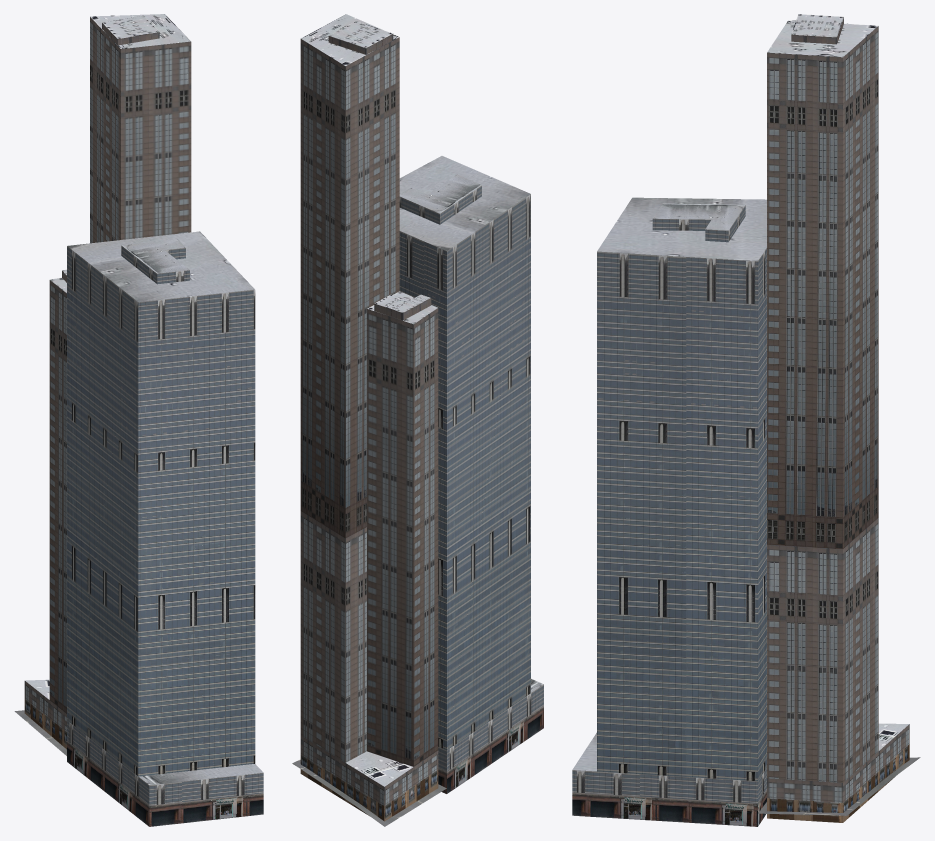
Rendered from EmbeddedTextures.fbx.
The picture shows the model from 3 angles, left to right: view 1: azimuth 30°, elevation 25°; view 2: azimuth 150°, elevation 25°; view 3: azimuth 270°, elevation 25°; orthographic projection. The views are drawn at different scales.
Parts seen in each view (by area): view 1: CityEngineMaterial_4_m, CityEngineMaterial_6_m, CityEngineMaterial_1_m, CityEngineMaterial_3_m, CityEngineMaterial_2_m, CityEngineMaterial_5_m; view 2: CityEngineMaterial_6_m, CityEngineMaterial_4_m, CityEngineMaterial_1_m, CityEngineMaterial_2_m, CityEngineMaterial_3_m, CityEngineMaterial_5_m, CityEngineMaterial_m; view 3: CityEngineMaterial_4_m, CityEngineMaterial_6_m, CityEngineMaterial_1_m, CityEngineMaterial_3_m, CityEngineMaterial_2_m, CityEngineMaterial_5_m, CityEngineMaterial_m.
Part boxes in pixels (x1,y1,x2,y2): CityEngineMaterial_4_m: (67, 245, 263, 805); CityEngineMaterial_6_m: (24, 17, 191, 731); CityEngineMaterial_1_m: (67, 231, 262, 785); CityEngineMaterial_3_m: (67, 741, 263, 826); CityEngineMaterial_2_m: (25, 14, 190, 699); CityEngineMaterial_5_m: (24, 699, 66, 749); CityEngineMaterial_6_m: (300, 34, 438, 805); CityEngineMaterial_4_m: (399, 185, 543, 771); CityEngineMaterial_1_m: (399, 156, 543, 692); CityEngineMaterial_2_m: (301, 14, 437, 786); CityEngineMaterial_3_m: (438, 706, 543, 793); CityEngineMaterial_5_m: (300, 755, 438, 821); CityEngineMaterial_m: (292, 759, 446, 826); CityEngineMaterial_4_m: (572, 205, 766, 803); CityEngineMaterial_6_m: (767, 17, 909, 802); CityEngineMaterial_1_m: (572, 197, 766, 771); CityEngineMaterial_3_m: (572, 790, 766, 826); CityEngineMaterial_2_m: (767, 14, 908, 750); CityEngineMaterial_5_m: (767, 744, 909, 822); CityEngineMaterial_m: (758, 757, 920, 815).
Bounding box in the file's own units: 35.47 × 186 × 75.26.
7 materials, 7 textured.
